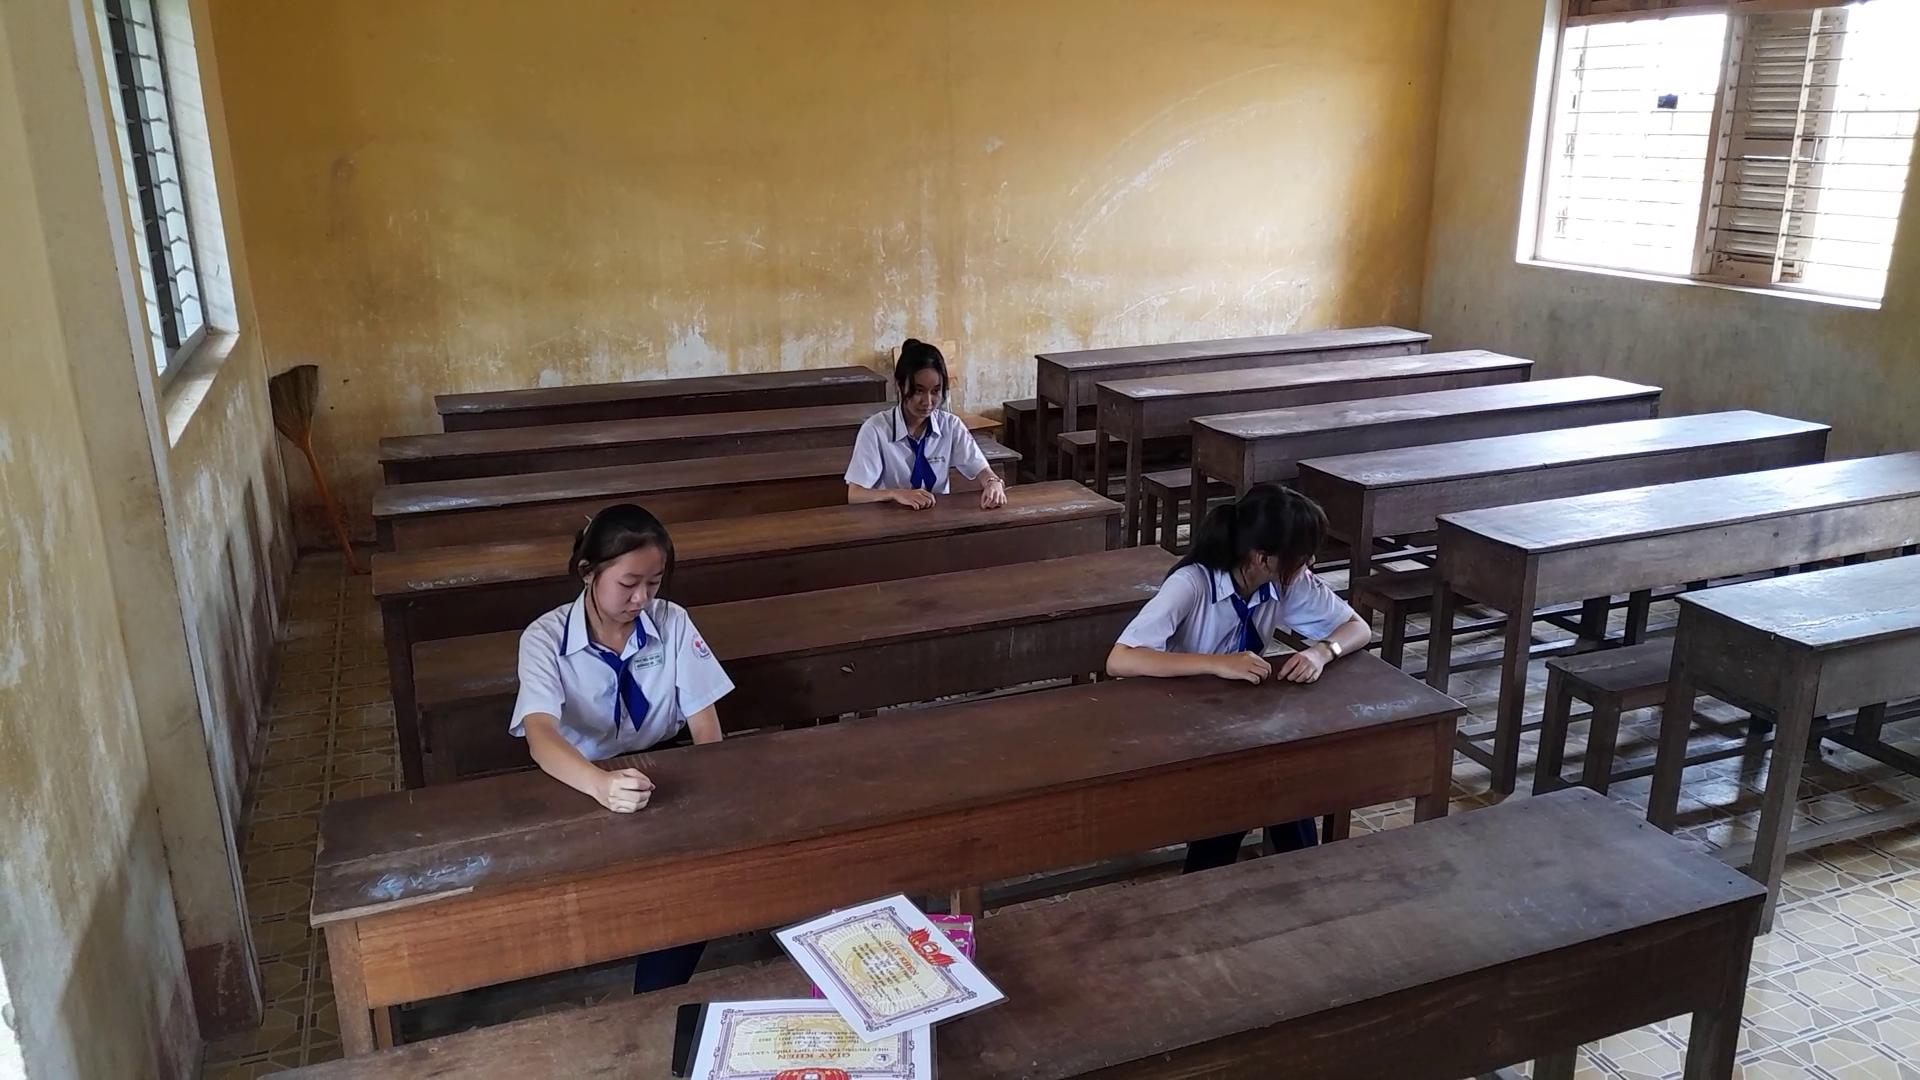Hand Under Table: (659, 601, 756, 761)
Look Around: (1212, 480, 1338, 611)
Normal: (837, 332, 1015, 527)
